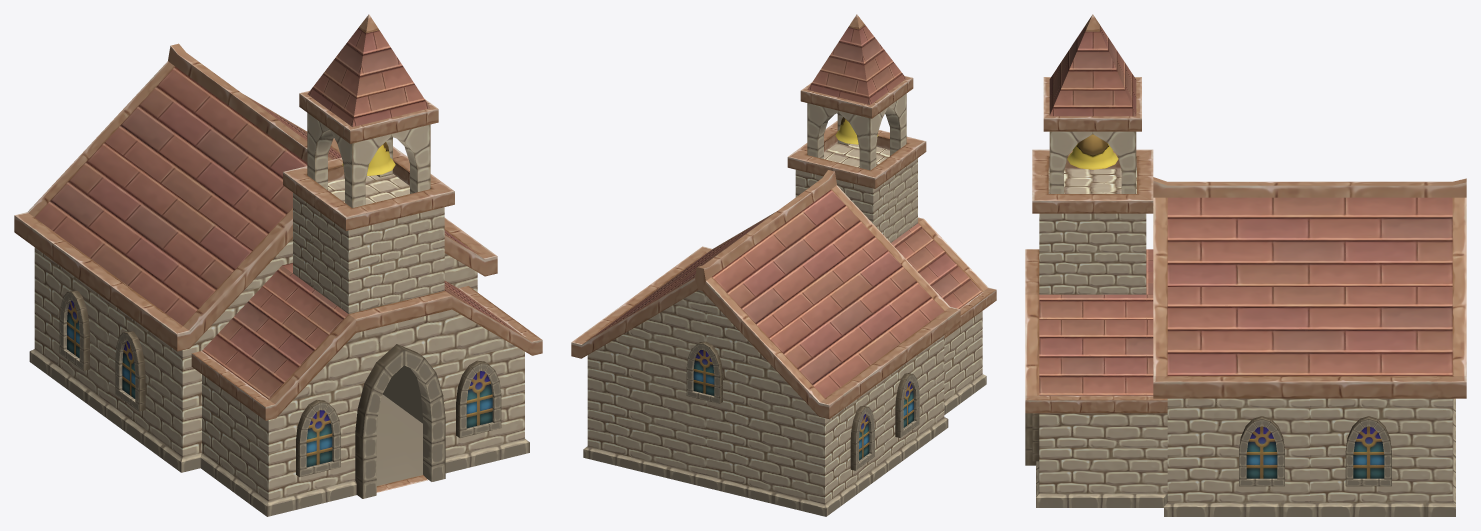
The model's file is church_HD.fbx.
The picture shows the model from 3 angles, left to right: view 1: azimuth 30°, elevation 25°; view 2: azimuth 150°, elevation 25°; view 3: azimuth 270°, elevation 25°; orthographic projection. The views are drawn at different scales.
Parts seen in each view (by area): view 1: Church; view 2: Church; view 3: Church.
Boxes of the visible parts, bbox=[...] form: Church: bbox=[14, 14, 542, 516]; Church: bbox=[571, 14, 996, 516]; Church: bbox=[1025, 14, 1466, 516].
Size of what is drawn, in the model's own units: 5 by 6.7 by 6.2.
